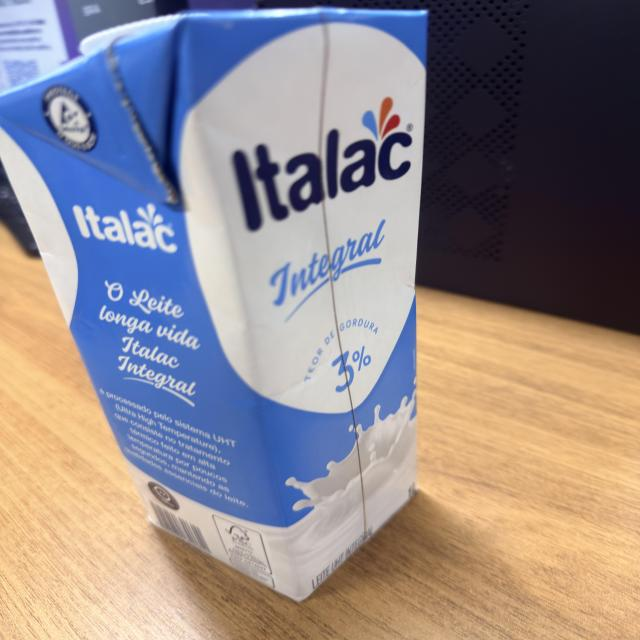Caixa de Leite: (3, 5, 427, 605)
